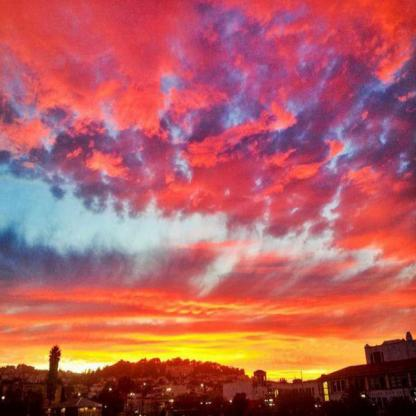other: (27, 24, 399, 249), (18, 291, 344, 385)
